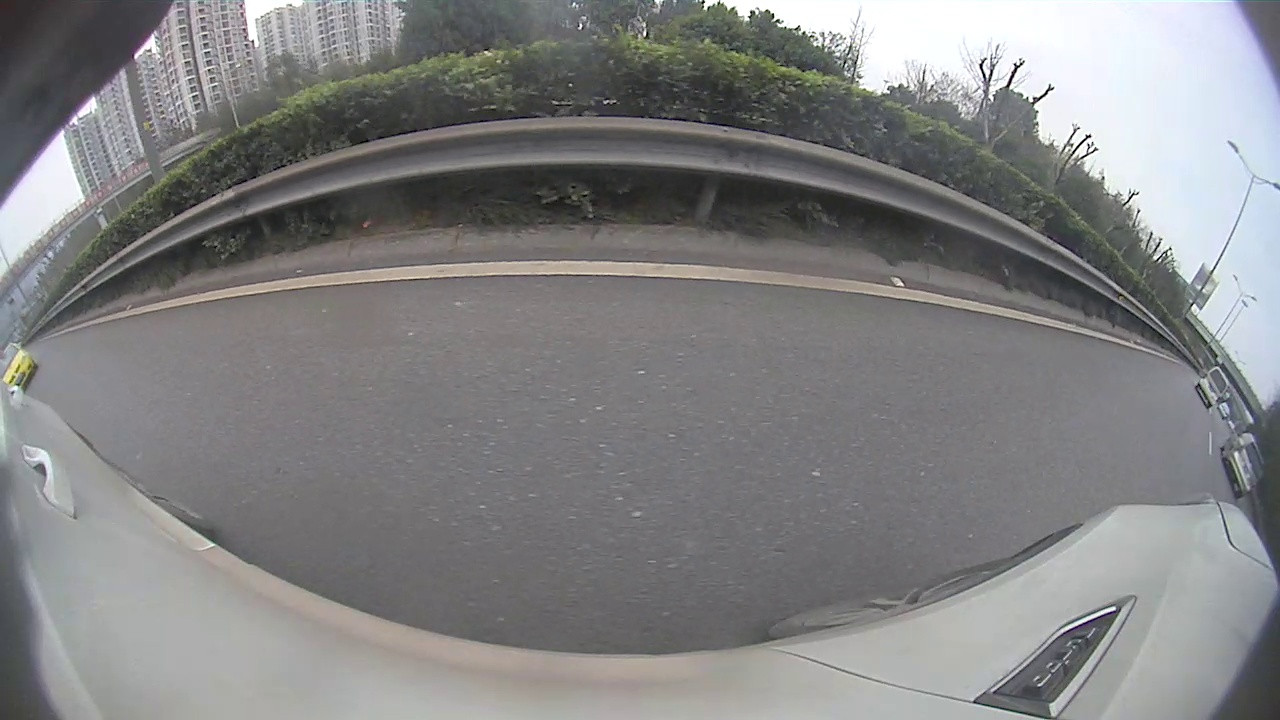car: (1221, 432, 1267, 499), (0, 343, 39, 390), (1194, 367, 1229, 408)
